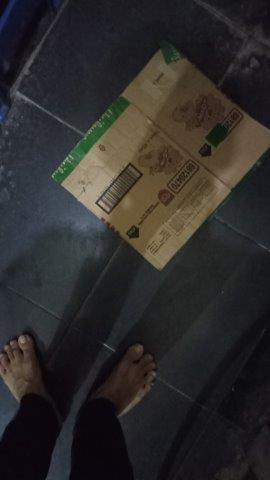kardus: (53, 48, 270, 267)
